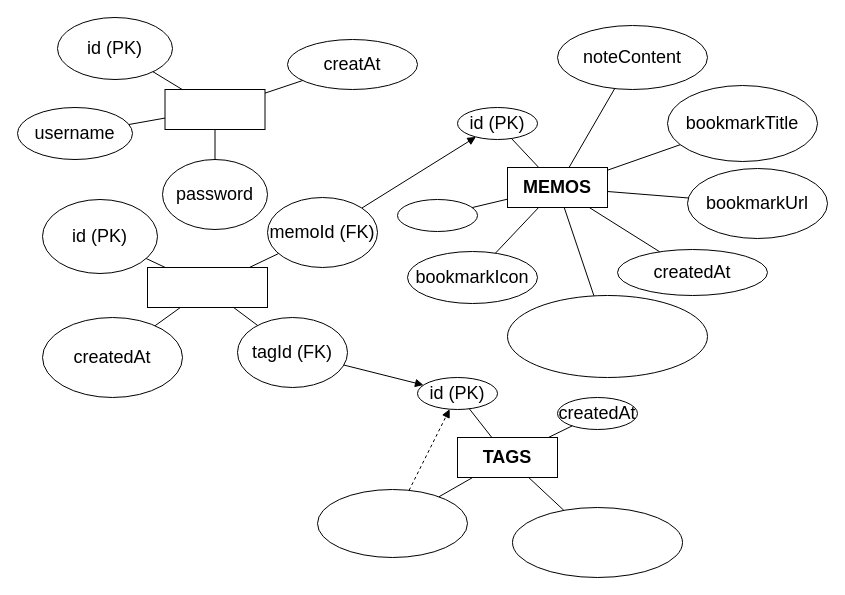
This 845x595 diagram has some shape labels left out. Each missing label, with the centre of its shape:
"bookmarkDescription" goes at point (607, 336).
"MEMO_TAGS" goes at point (207, 287).
"parentId (FK)" goes at point (392, 523).
"path (UNIQUE)" goes at point (597, 542).
"type" goes at point (437, 215).
"USERS" goes at point (214, 109).
